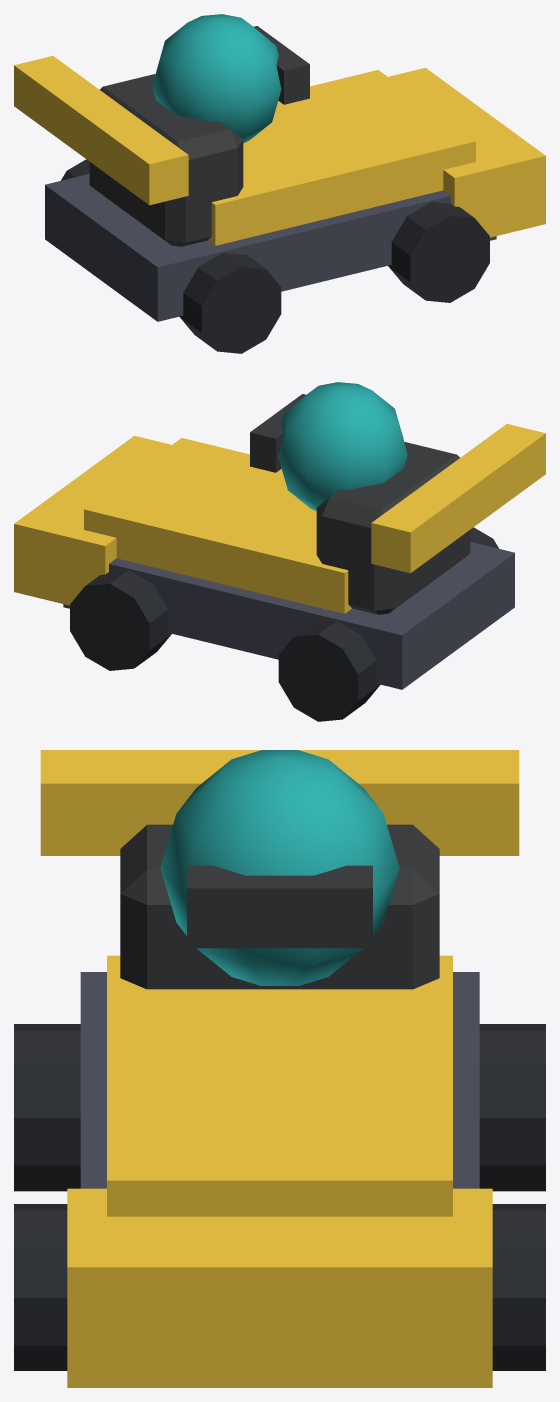
File: go-karts.kart-2.glb
3 renders of one model, top to bottom at view 1: azimuth 30°, elevation 25°; view 2: azimuth 150°, elevation 25°; view 3: azimuth 270°, elevation 25°, orthographic. The views are drawn at different scales.
Parts seen in each view (by area): view 1: model; view 2: model; view 3: model.
Part boxes in pixels (bbox=[...]): model: bbox=[14, 14, 545, 353]; model: bbox=[14, 382, 545, 721]; model: bbox=[14, 750, 545, 1387].
Bounding box in the file's own units: 0.31 × 0.195 × 0.2.
Materials: 1 (1 with a texture image).
